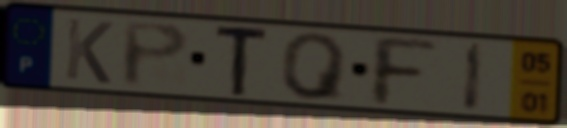F: (367, 32, 442, 109)
I: (460, 39, 488, 115)
K: (62, 15, 116, 87)
P: (119, 19, 193, 91)
Q: (279, 31, 352, 103)
T: (212, 25, 273, 99)
